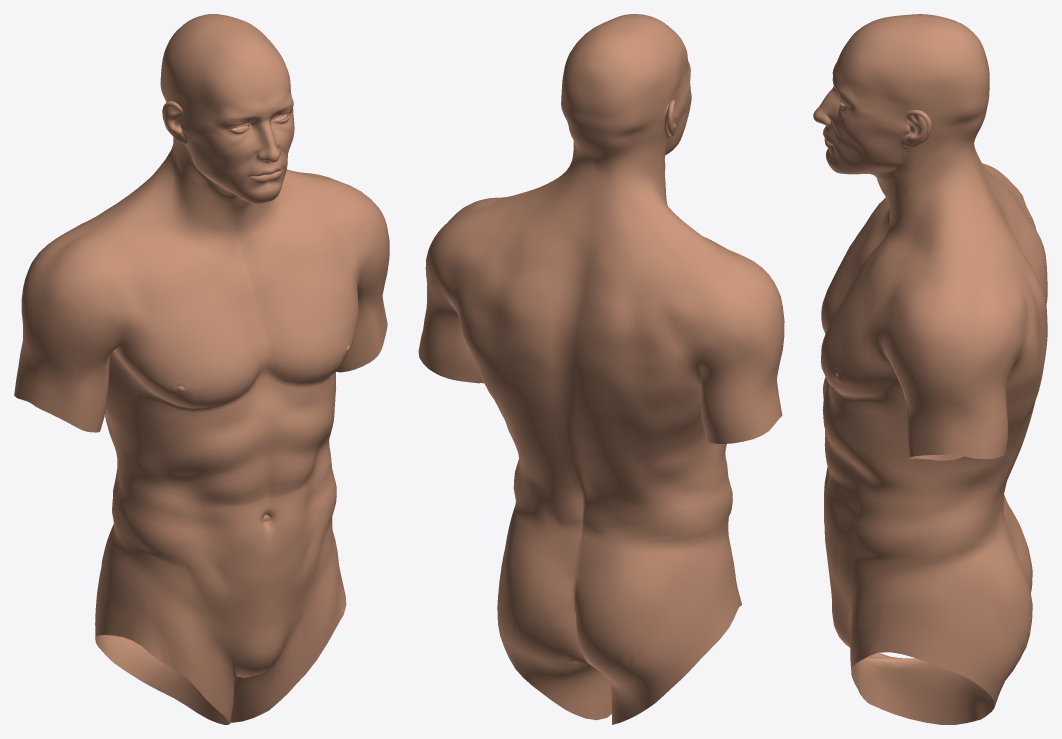
File: digestive-system.glb
The picture shows the model from 3 angles, left to right: view 1: azimuth 30°, elevation 25°; view 2: azimuth 150°, elevation 25°; view 3: azimuth 270°, elevation 25°; orthographic projection. The views are drawn at different scales.
Visible parts, largest first — view 1: skin; view 2: skin; view 3: skin.
Part boxes in pixels (bbox=[...]): skin: bbox=[14, 14, 389, 724]; skin: bbox=[418, 14, 784, 724]; skin: bbox=[813, 14, 1047, 724].
Size of the model in its own units: 52.51 by 98.63 by 29.83.
